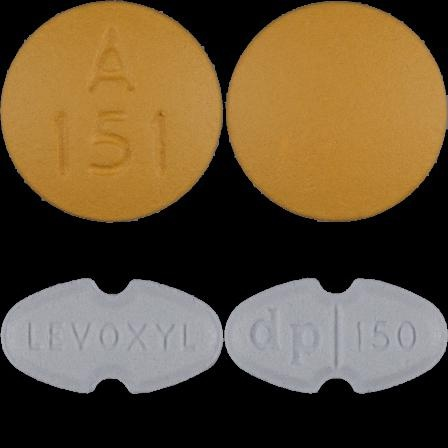54868-4531: (0, 0, 224, 224)
